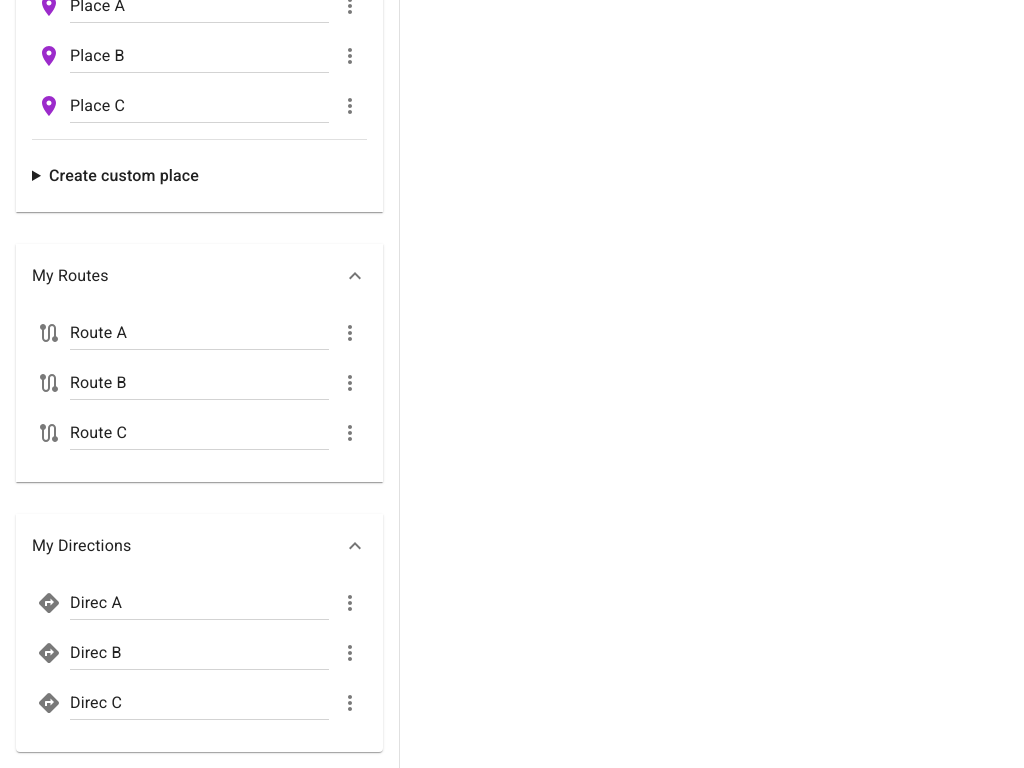
<PanelDrawer /> › favorites › direcs › should replace current sequence by points of a direc ordered for modification
(page scrolled)
Click the button named "Menu" in the row of "Direc B": (350, 653) left=333, top=636, right=367, bottom=670
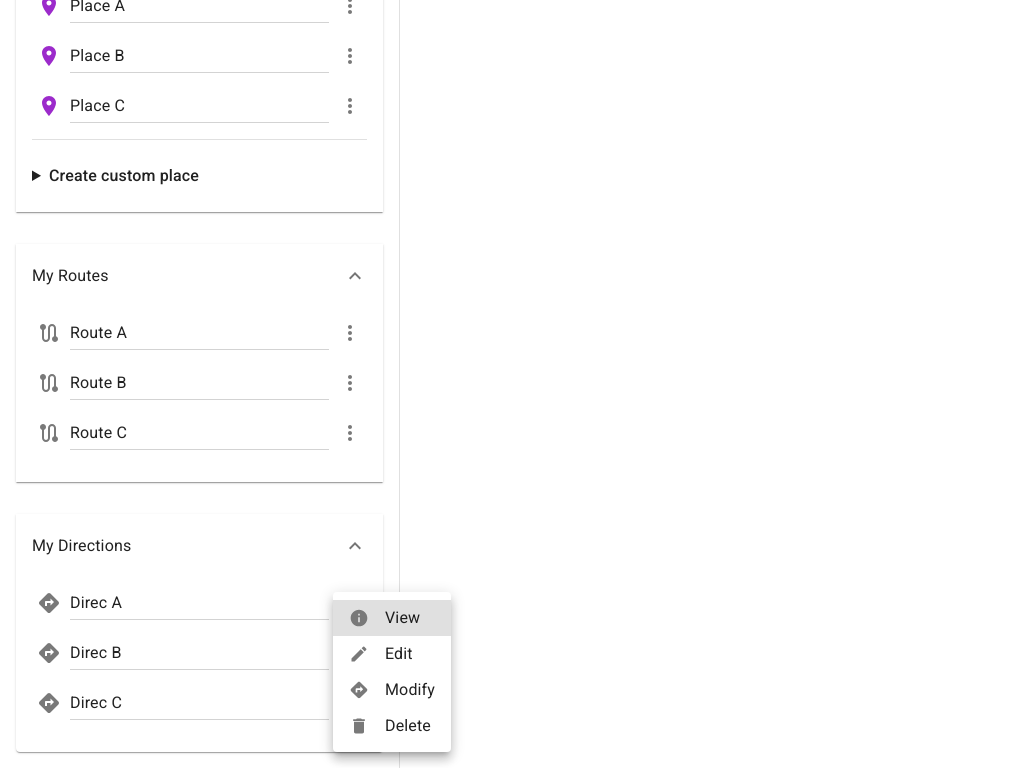
Click the menu item "Modify": (392, 690) left=349, top=680, right=435, bottom=700
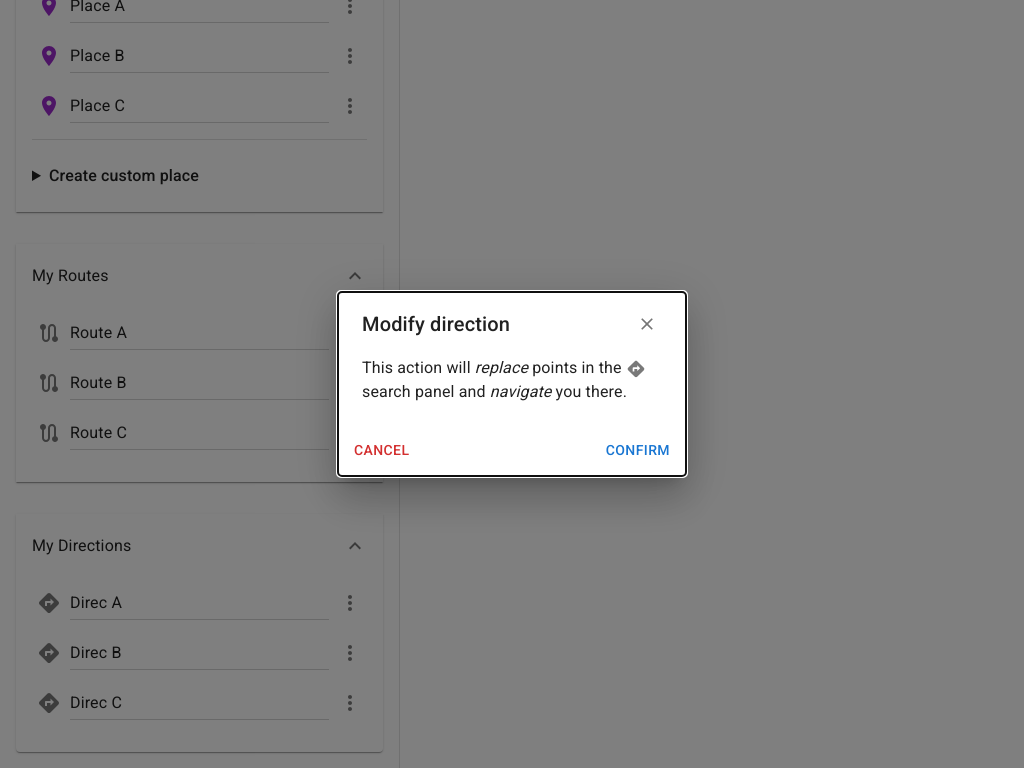
Click the button "Confirm": (638, 450) left=598, top=432, right=678, bottom=468
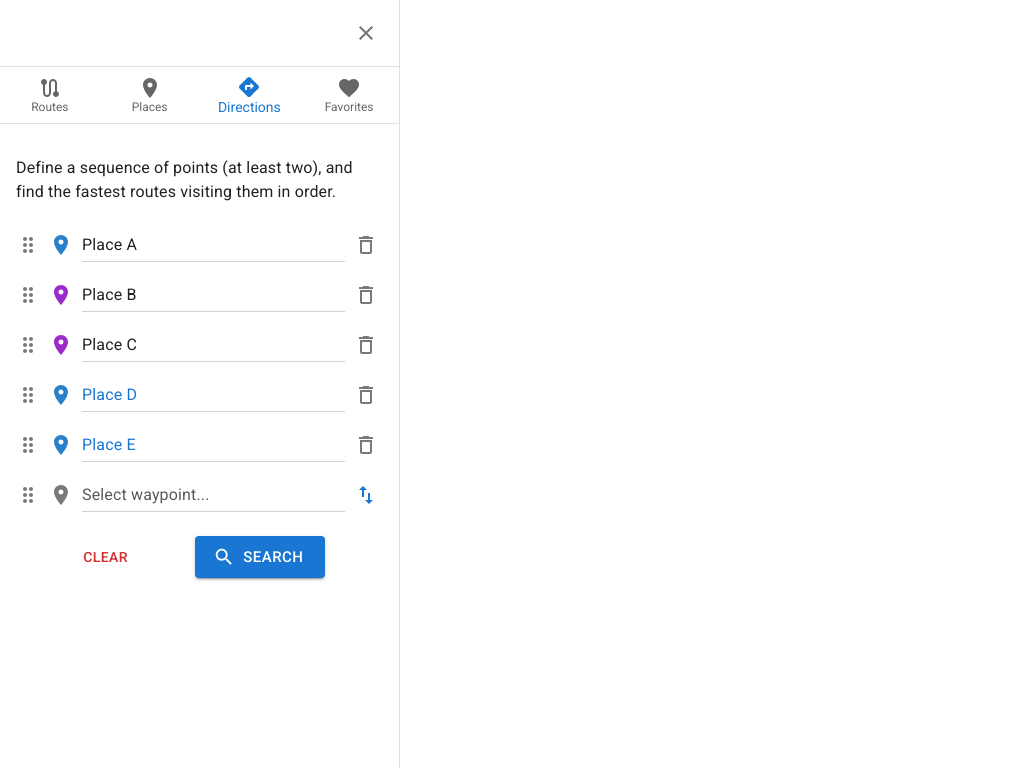
Now the link "Place D" is shown, box left=82, top=384, right=137, bottom=404
Now the link "Place E" is shown, box left=82, top=434, right=136, bottom=454
Now the number of list items is 5, box left=16, top=228, right=383, bottom=278; left=16, top=278, right=383, bottom=328; left=16, top=328, right=383, bottom=378; left=16, top=378, right=383, bottom=428; left=16, top=428, right=383, bottom=478
